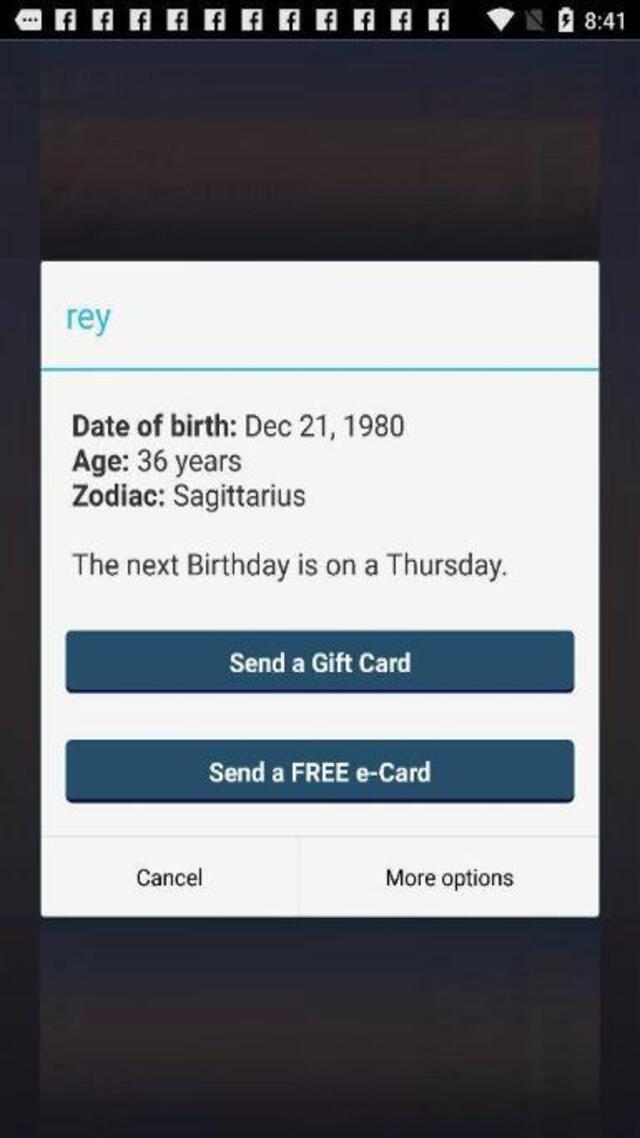Text: (72, 553, 513, 581), (64, 410, 406, 444), (66, 480, 313, 514), (223, 644, 419, 680), (204, 757, 438, 787), (66, 446, 249, 478), (378, 864, 516, 895), (130, 863, 207, 893), (66, 310, 110, 334)
TextButton: (64, 738, 574, 802), (67, 630, 576, 690), (300, 838, 598, 916), (41, 835, 298, 915)
